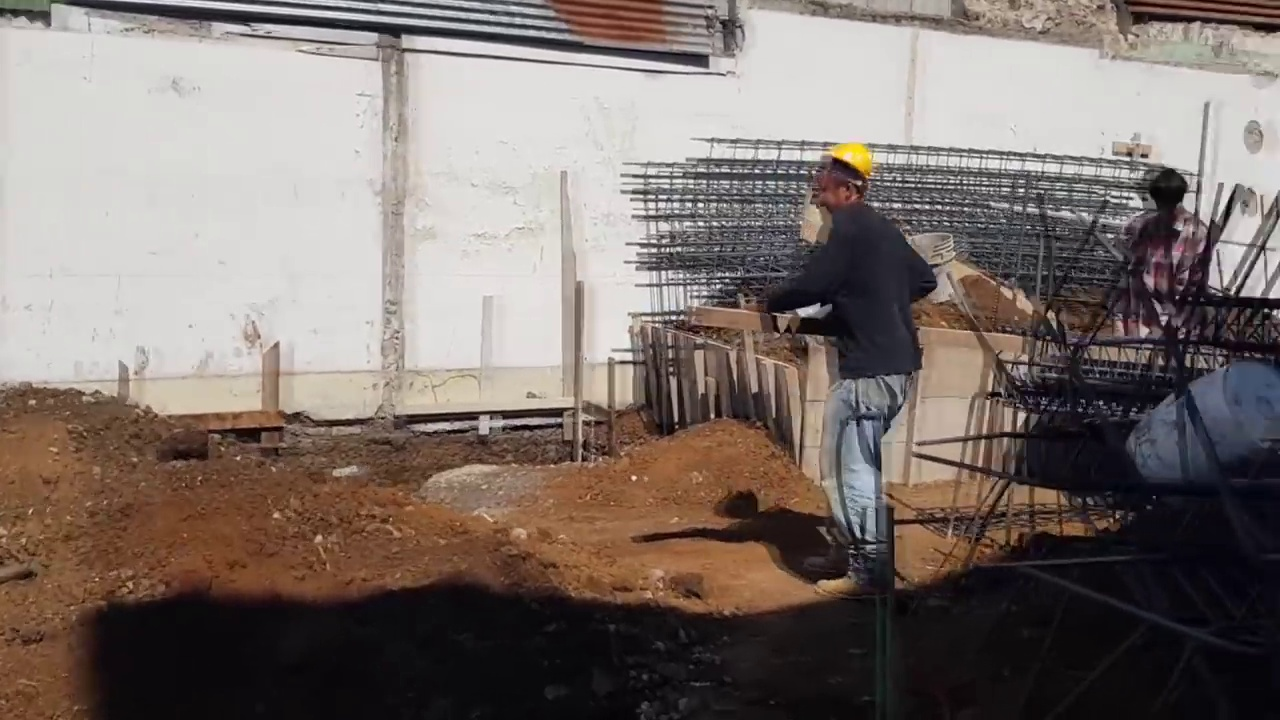helmet: (818, 140, 876, 183)
helmet-off: (1142, 166, 1193, 229)
helmet-on: (816, 139, 876, 213)
person: (770, 144, 931, 629), (1124, 166, 1220, 336)
